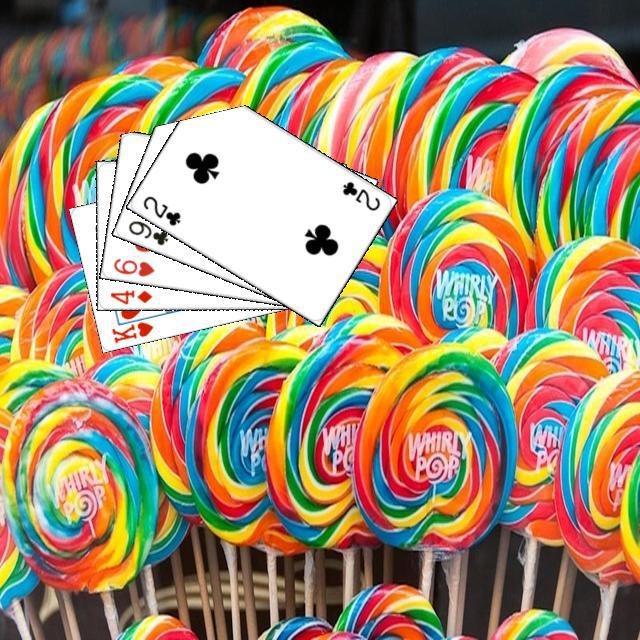2c: (337, 176, 382, 213), (138, 191, 182, 228)
4d: (105, 285, 154, 305)
6h: (109, 253, 156, 278)
9c: (123, 215, 170, 247)
Kh: (107, 310, 157, 345)
